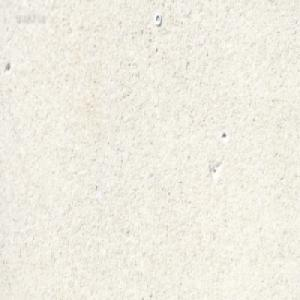Washer: (154, 13, 161, 27)
